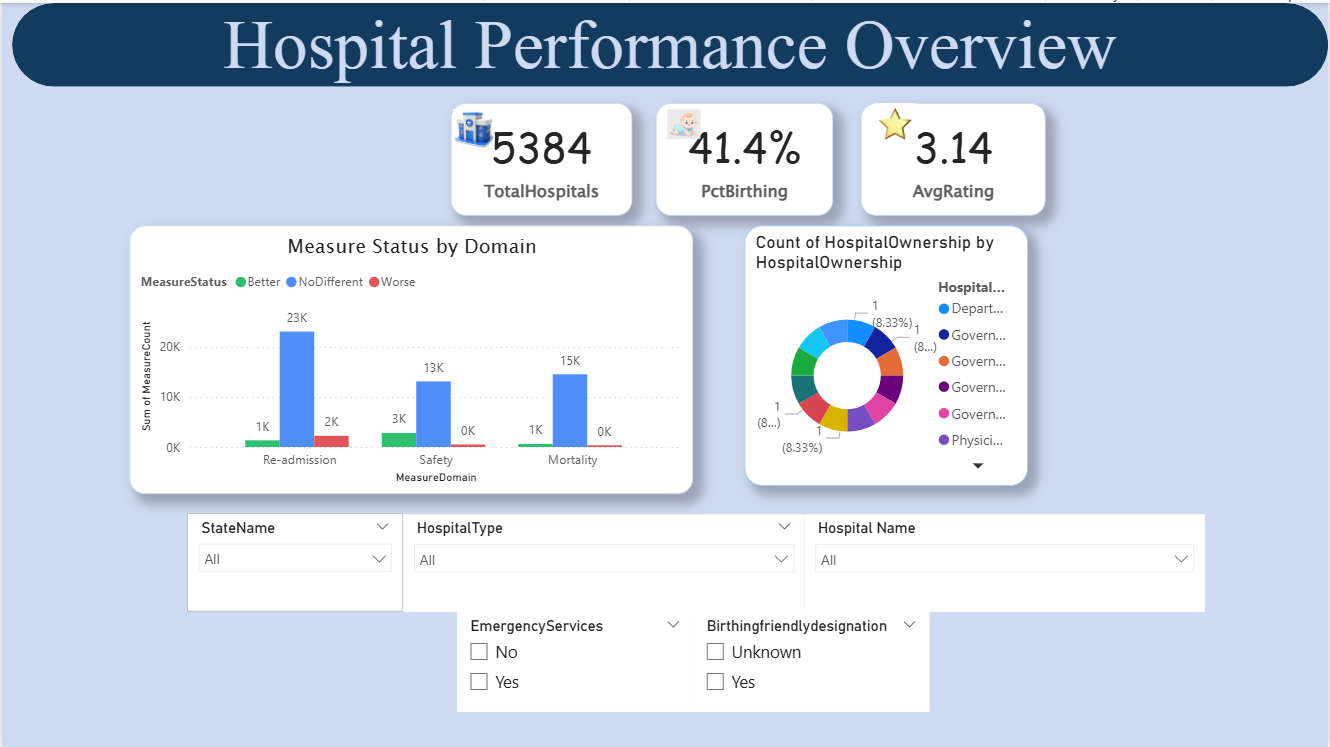

The dashboard page shown, as its layout file describes it:
{"tool":"powerbi","page":{"name":"Overview","canvas":[1280,720],"ordinal":0},"visuals":[{"type":"card","fields":{"Values":["Hospital.TotalHospitals"]},"box":[433.1,96.5,174.9,108.6],"z":0},{"type":"card","fields":{"Values":["Hospital.AvgRating"]},"box":[828.8,96.5,178.6,108.6],"z":1000},{"type":"card","fields":{"Values":["Hospital.PctBirthing"]},"box":[631,96.5,171.3,108.6],"z":2000},{"type":"clusteredColumnChart","title":"Measure Status by Domain","fields":{"Category":["FactPerformance.MeasureDomain"],"Y":["Sum(FactPerformance.MeasureCount)"],"Series":["FactPerformance.MeasureStatus"]},"box":[123.1,214.7,544.1,259.4],"z":3000},{"type":"slicer","fields":{"Values":["Hospital.Birthingfriendlydesignation"]},"box":[667.2,587.5,228,96.5],"z":5000},{"type":"slicer","fields":{"Values":["Hospital.EmergencyServices"]},"box":[439.1,587.5,228,96.5],"z":6000},{"type":"slicer","fields":{"Values":["Dim_State.StateName"]},"box":[178.6,492.2,208.7,95.3],"z":7000},{"type":"slicer","fields":{"Values":["Dim_HospitalType.HospitalType"]},"box":[387.3,493.4,387.3,94.1],"z":8000},{"type":"slicer","fields":{"Values":["FactPerformance.FacilityName"]},"box":[774.5,493.4,386.1,94.1],"z":9000},{"type":"shape","title":"HOSPITAL PERFORMANCE OVERVIEW","box":[9.7,0,1270.4,80.8],"z":10000},{"type":"image","box":[433.1,102.5,44.6,39.8],"z":11500},{"type":"image","box":[828.8,96.5,66.4,39.8],"z":12502},{"type":"image","box":[631,102.5,54.3,29],"z":14002},{"type":"donutChart","fields":{"Category":["Dim_Ownership.HospitalOwnership"],"Y":["CountNonNull(Dim_Ownership.HospitalOwnership)"]},"box":[716.6,214.7,273.9,250.9],"z":14003}]}

Visuals, with their boxes in screenshot pixels (x1, y1, x2, y2), scaled from the page's 1280x720 canvas onto the 1330x747 screenshot:
card - Hospital.TotalHospitals: <box>450,100,632,213</box>
card - Hospital.AvgRating: <box>861,100,1047,213</box>
card - Hospital.PctBirthing: <box>656,100,834,213</box>
"Measure Status by Domain" clusteredColumnChart: <box>128,223,693,492</box>
slicer - Hospital.Birthingfriendlydesignation: <box>693,610,930,710</box>
slicer - Hospital.EmergencyServices: <box>456,610,693,710</box>
slicer - Dim_State.StateName: <box>186,511,402,610</box>
slicer - Dim_HospitalType.HospitalType: <box>402,512,805,610</box>
slicer - FactPerformance.FacilityName: <box>805,512,1206,610</box>
"HOSPITAL PERFORMANCE OVERVIEW" shape: <box>10,0,1329,84</box>
image: <box>450,106,496,148</box>
image: <box>861,100,930,141</box>
image: <box>656,106,712,136</box>
donutChart - Dim_Ownership.HospitalOwnership x CountNonNull(Dim_Ownership.HospitalOwnership): <box>745,223,1029,483</box>
